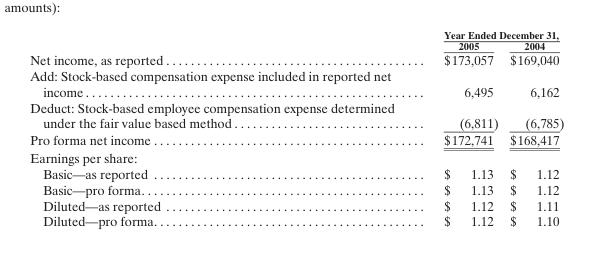table: (29, 28, 563, 228)
table column: (29, 28, 418, 228), (418, 28, 503, 228), (503, 28, 563, 228)
table column header: (29, 28, 563, 51)
table projected row header: (29, 148, 563, 165)
table row: (29, 67, 563, 99), (29, 99, 563, 131), (29, 131, 563, 148), (29, 148, 563, 165), (29, 51, 563, 67), (29, 165, 563, 181), (29, 181, 563, 197), (29, 212, 563, 228), (29, 197, 563, 212), (29, 28, 563, 40), (29, 40, 563, 51)
table spanning cell: (418, 28, 563, 40)
